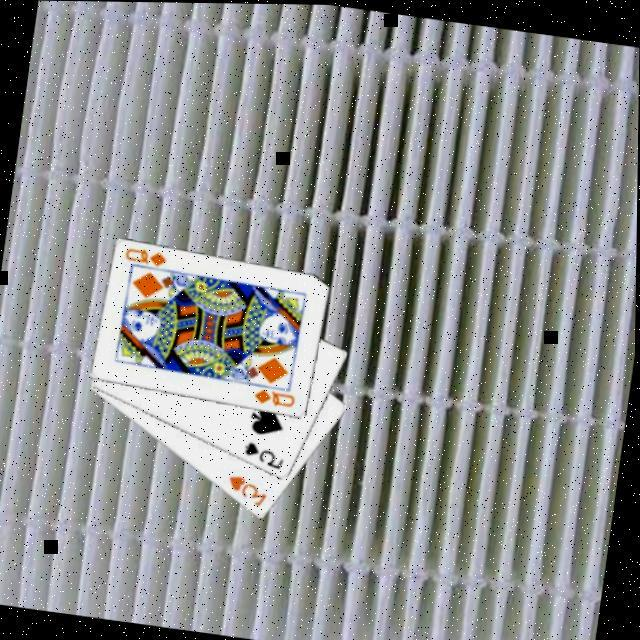3H: (221, 470, 271, 510)
5S: (238, 438, 286, 472)
QD: (119, 242, 169, 271), (249, 384, 297, 412)
